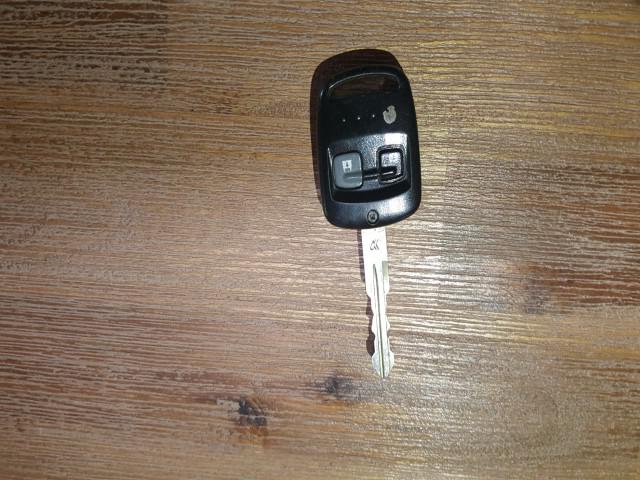key: (312, 64, 424, 424)
